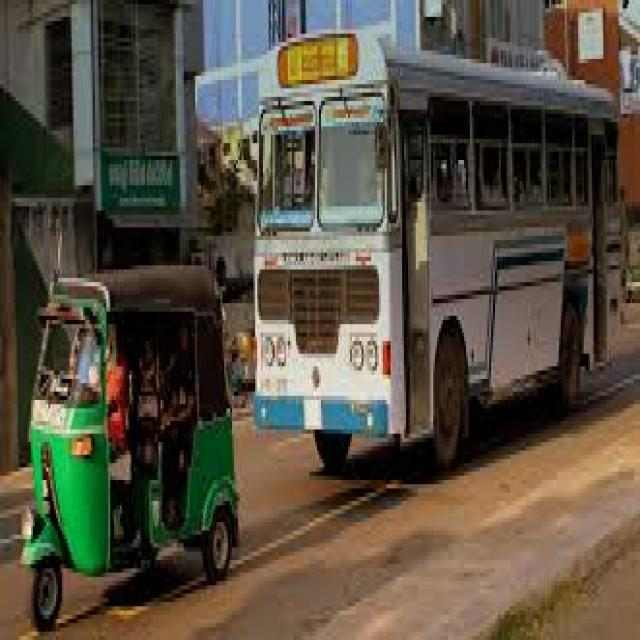bus: (255, 36, 626, 468)
tuktuk: (5, 254, 246, 632)
